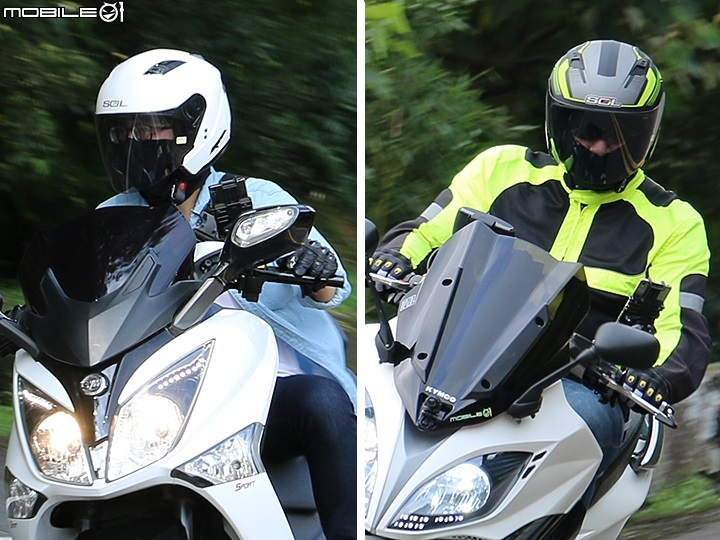helmet: (98, 51, 244, 190), (544, 42, 672, 189)
